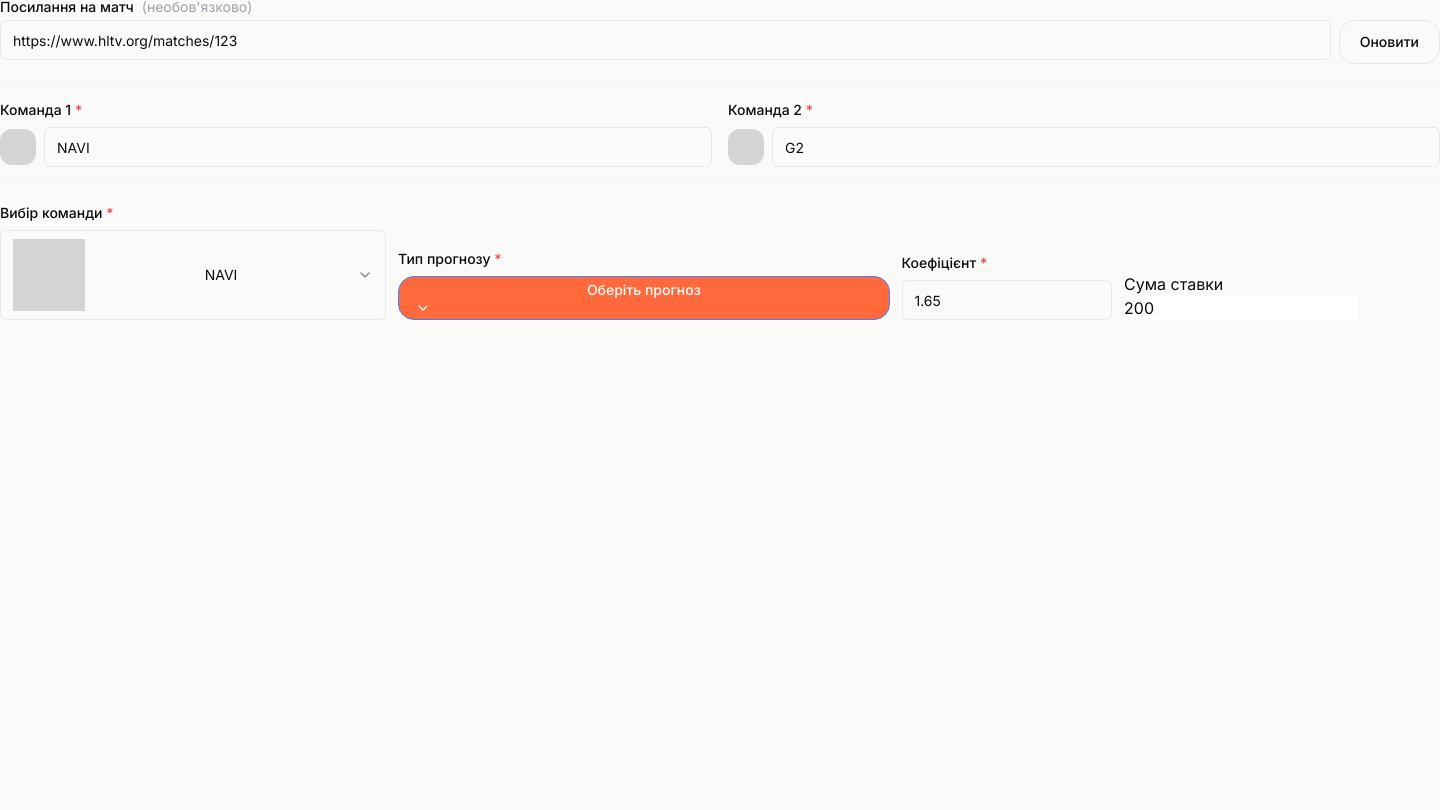
Test case: compact match and prediction card › opens the existing market picker
Click the button with aria-label "Тип прогнозу". click: (644, 298)
box: [398, 276, 890, 320]
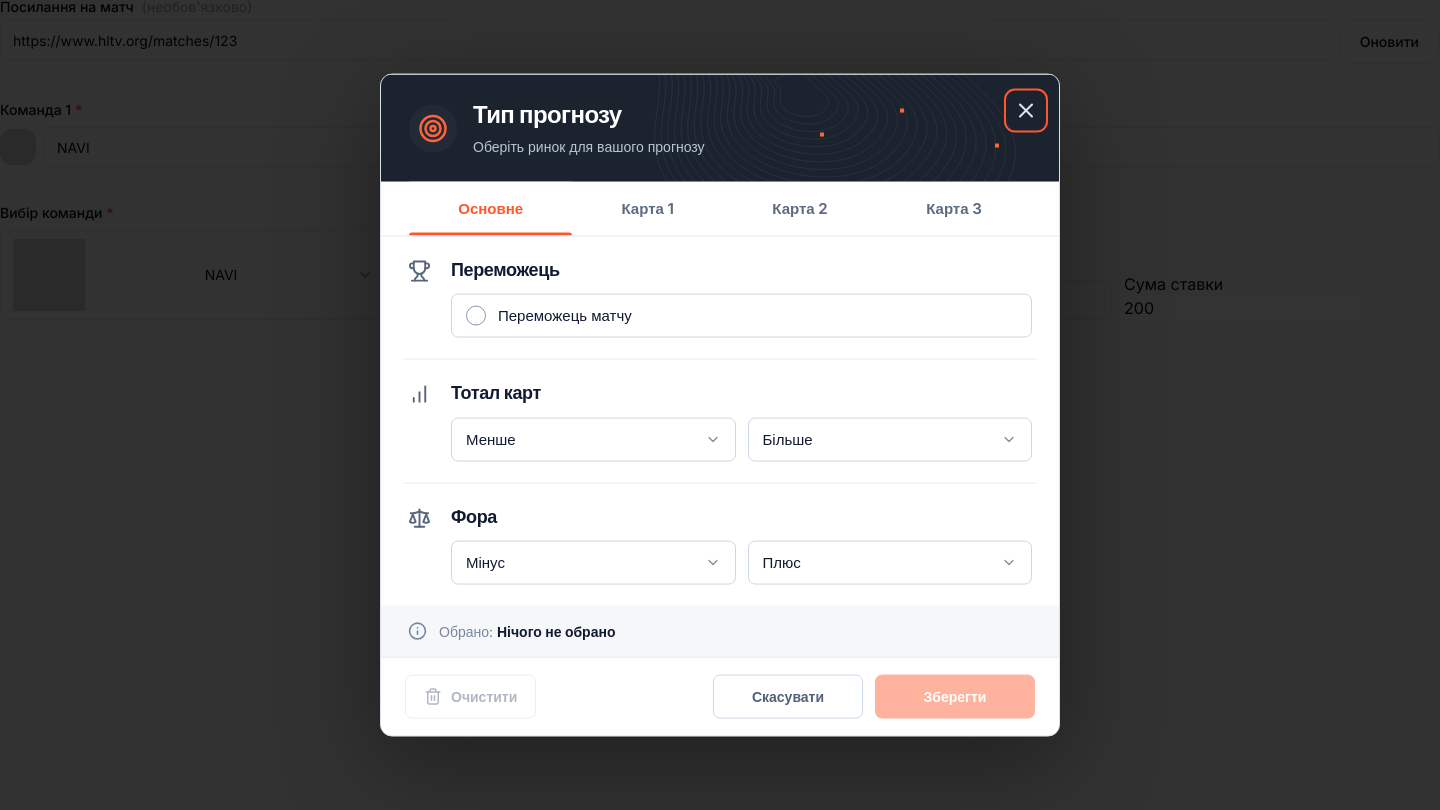
Expected: the dialog is shown, [380, 74, 1060, 736]
Expected: the button "Зберегти" is disabled, [875, 674, 1035, 718]
